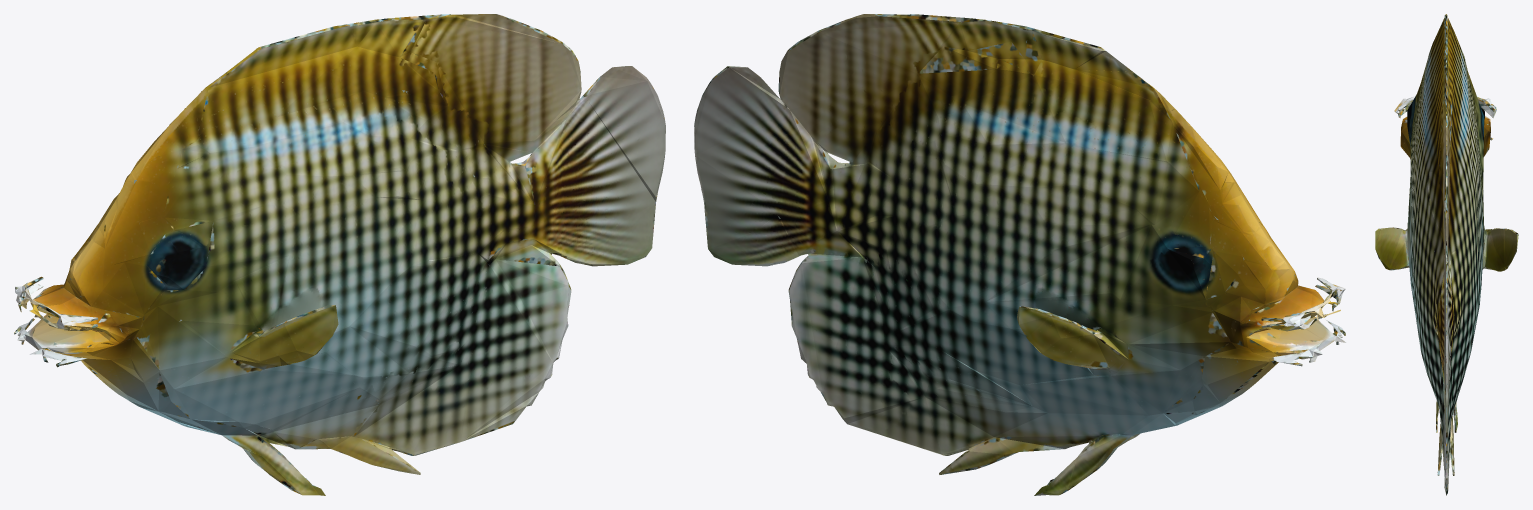
File: fish_0110_smpl23_resized.glb
3 renders of one model, left to right at view 1: azimuth 30°, elevation 25°; view 2: azimuth 150°, elevation 25°; view 3: azimuth 270°, elevation 25°, orthographic. The views are drawn at different scales.
Parts seen in each view (by area): view 1: world; view 2: world; view 3: world.
Part boxes in pixels (x1,y1,x2,y2): world: [14, 14, 665, 495]; world: [694, 14, 1346, 495]; world: [1375, 14, 1518, 495].
Size of the model in its own units: 1.99 by 1.37 by 0.446.
1 material, 1 textured.
